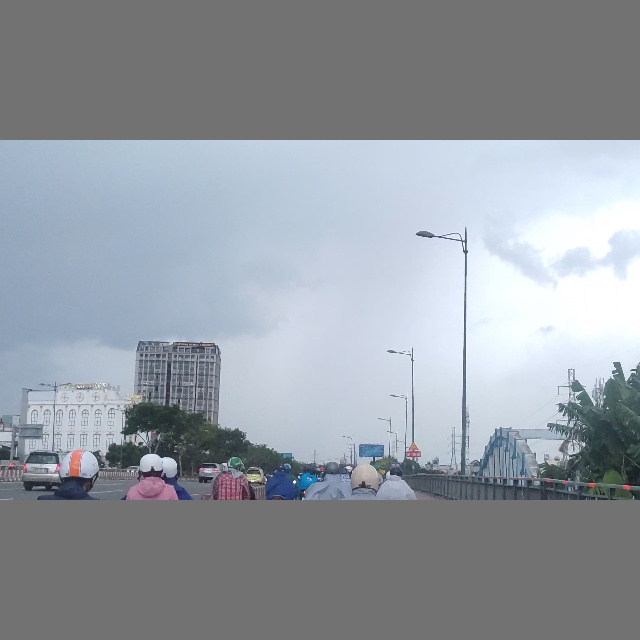W.245a: (408, 441, 419, 451)
